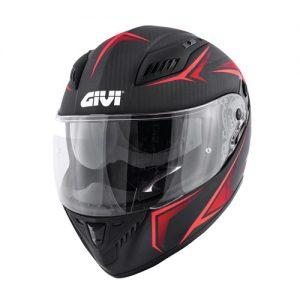Helmet: (51, 25, 251, 280)
